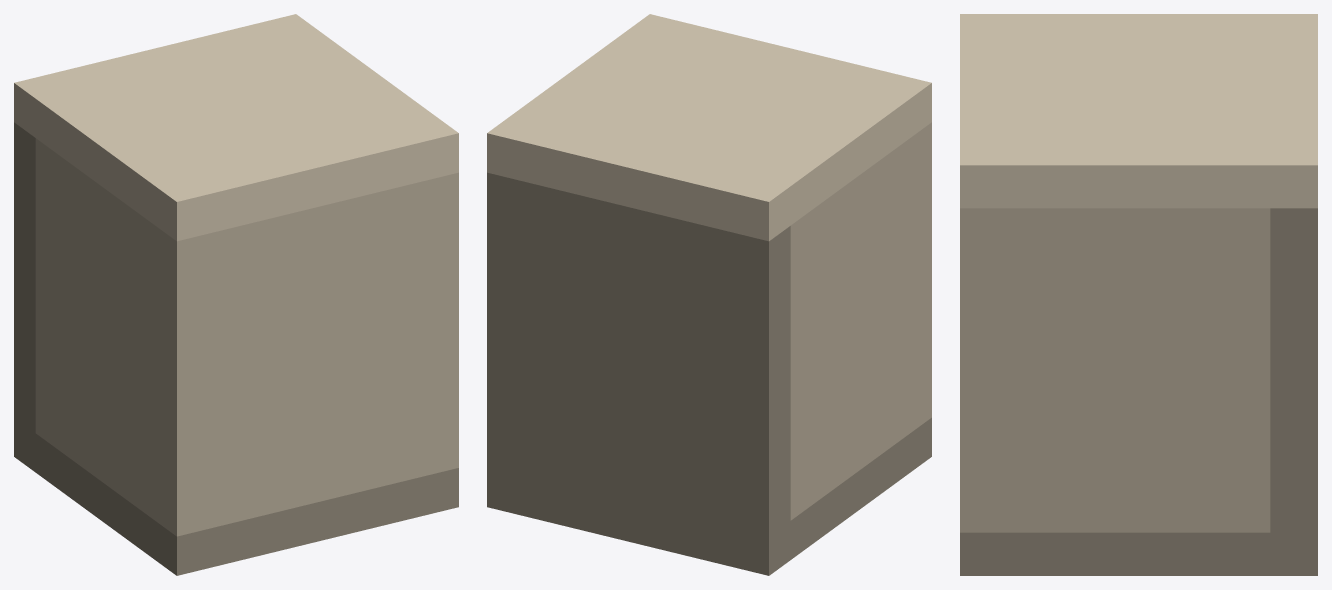
Rendered from estanteria_pociones_abeto_01.glb.
The picture shows the model from 3 angles, left to right: view 1: azimuth 30°, elevation 25°; view 2: azimuth 150°, elevation 25°; view 3: azimuth 270°, elevation 25°; orthographic projection. The views are drawn at different scales.
Parts seen in each view (by area): view 1: estanteria_pociones_abeto; view 2: estanteria_pociones_abeto; view 3: estanteria_pociones_abeto.
Boxes of the visible parts, left/top/right/bottom form: estanteria_pociones_abeto: left=14, top=14, right=458, bottom=575; estanteria_pociones_abeto: left=487, top=14, right=931, bottom=575; estanteria_pociones_abeto: left=960, top=14, right=1317, bottom=575.
Bounding box in the file's own units: 1 × 1.27 × 1.
